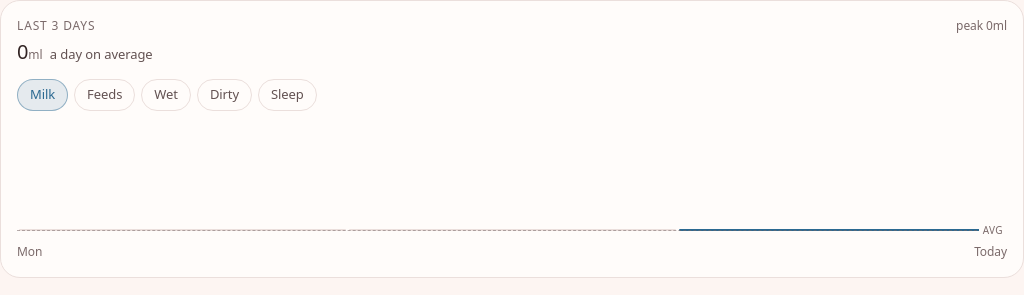
Test: tapping the same day again goes back to the average
Click the button "Sleep": (287, 95) [258, 79, 317, 111]
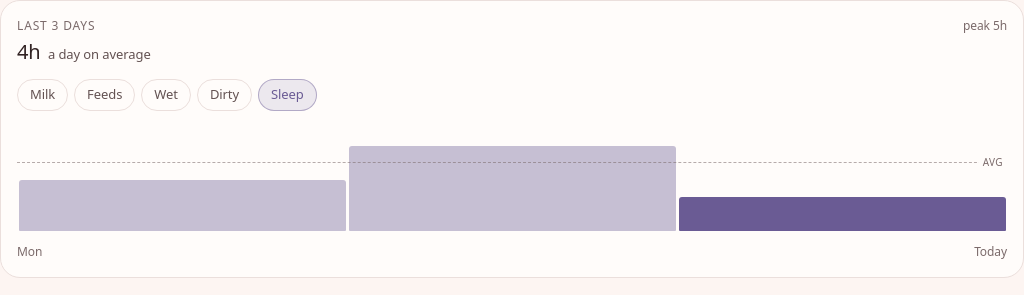
Click the button named "Oct 13": (512, 182) [347, 133, 677, 231]
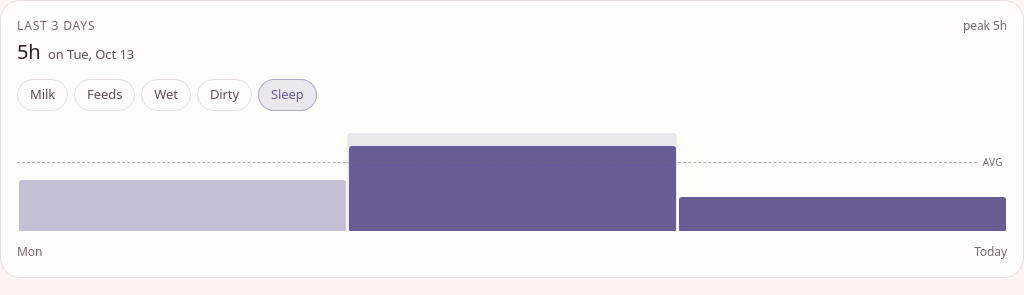
Click the button named "Oct 13": (512, 182) [347, 133, 677, 231]
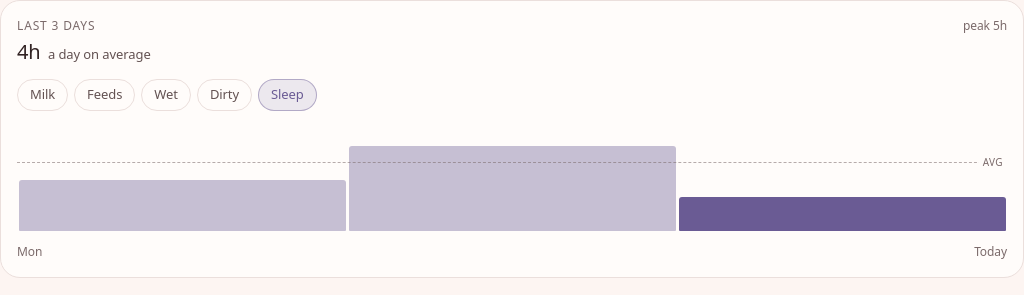
Check: the element with class "trend-average" shows "a day on average", box [45, 45, 151, 63]
